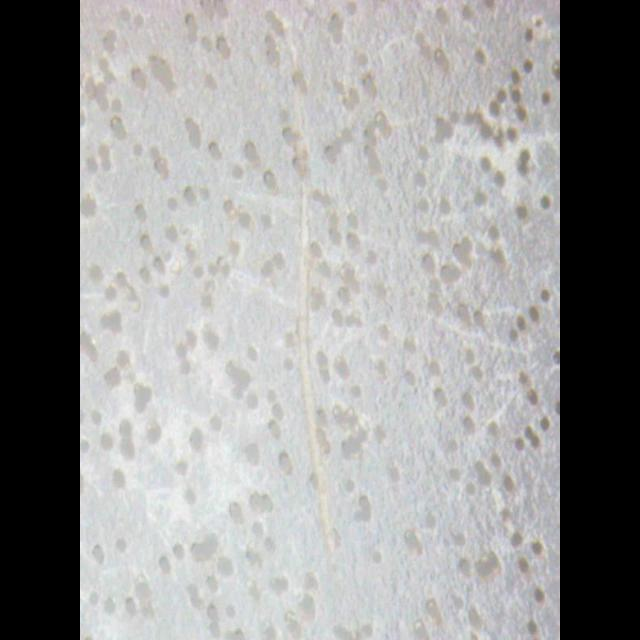Fibre: (283, 170, 351, 586)
